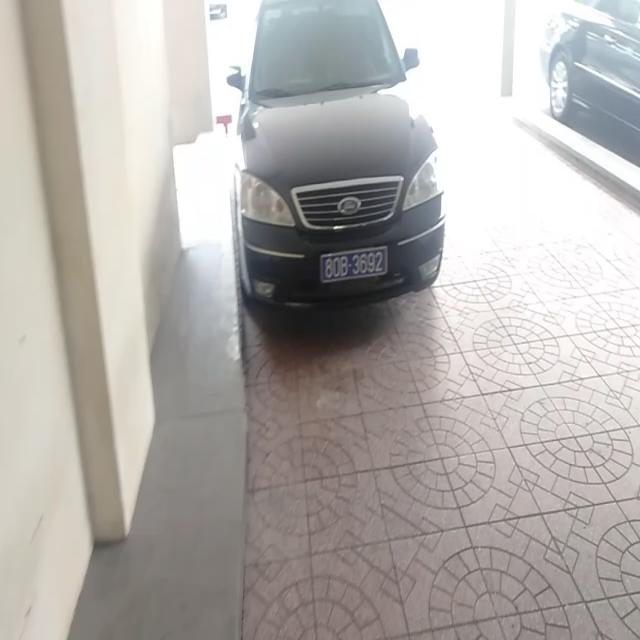bien_xanh: (321, 245, 389, 282)
